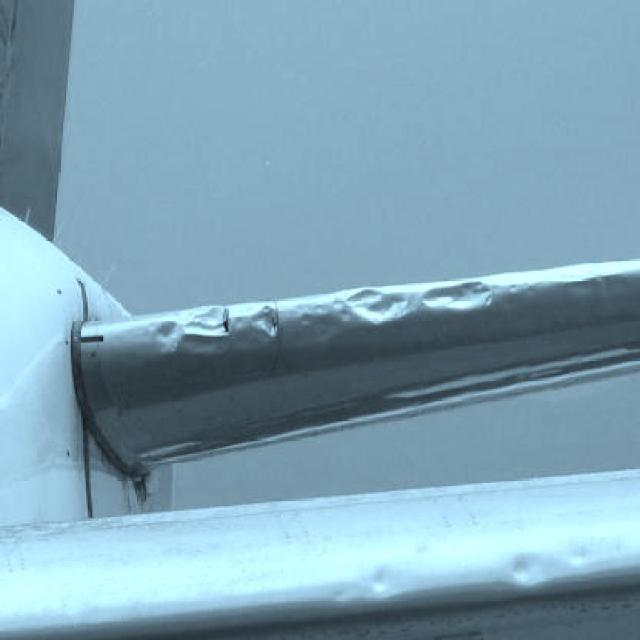dent: (350, 292, 415, 326), (424, 286, 492, 312), (295, 300, 346, 331), (189, 307, 229, 338), (511, 558, 546, 584), (366, 567, 395, 598), (257, 306, 278, 337), (158, 321, 177, 347)
